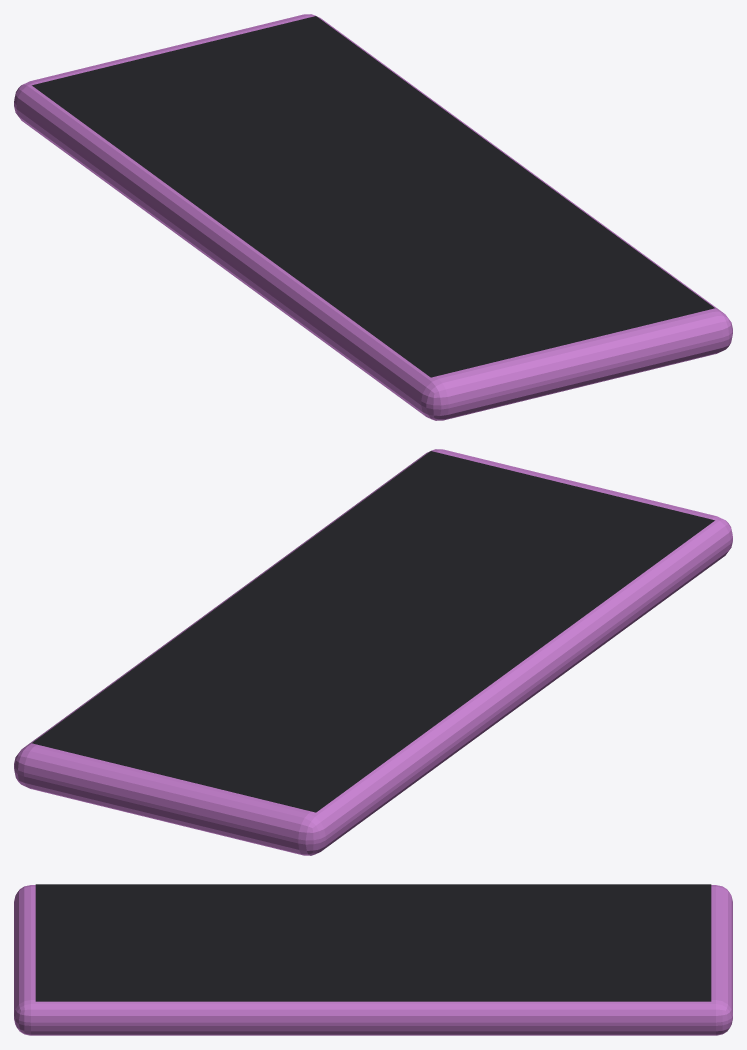
Rendered from xiaomi-redmi-model-122-mid-range-2025.glb.
3 views of the same model, one above another, from view 1: azimuth 30°, elevation 25°; view 2: azimuth 150°, elevation 25°; view 3: azimuth 270°, elevation 25° (orthographic). The views are drawn at different scales.
Visible parts, largest first — view 1: Phone_Screen, Phone_Body; view 2: Phone_Screen, Phone_Body; view 3: Phone_Screen, Phone_Body.
Part boxes in pixels (x1=…): Phone_Screen: x1=32, y1=16, x2=714, y2=377; Phone_Body: x1=14, y1=14, x2=732, y2=420; Phone_Screen: x1=32, y1=451, x2=714, y2=812; Phone_Body: x1=14, y1=449, x2=732, y2=855; Phone_Screen: x1=35, y1=884, x2=711, y2=1001; Phone_Body: x1=14, y1=885, x2=732, y2=1035.
Bounding box in the file's own units: 0.0712 × 0.009 × 0.1694.
